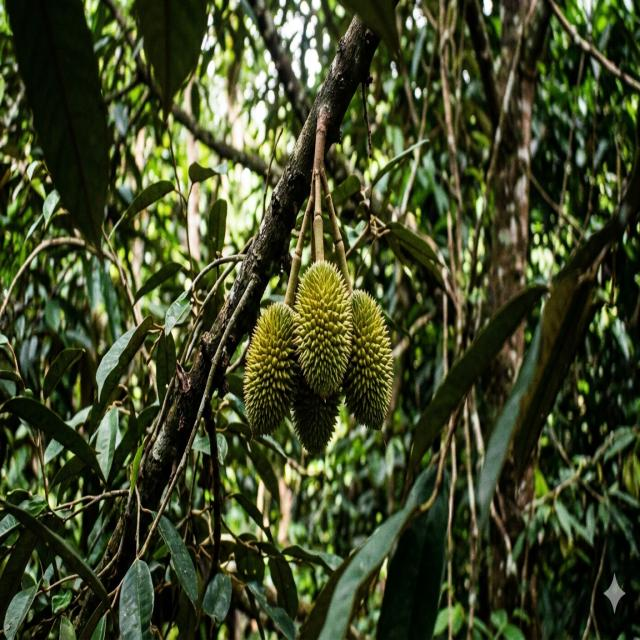immature: (292, 260, 352, 394), (243, 301, 300, 439), (342, 289, 395, 430), (291, 374, 342, 456)
